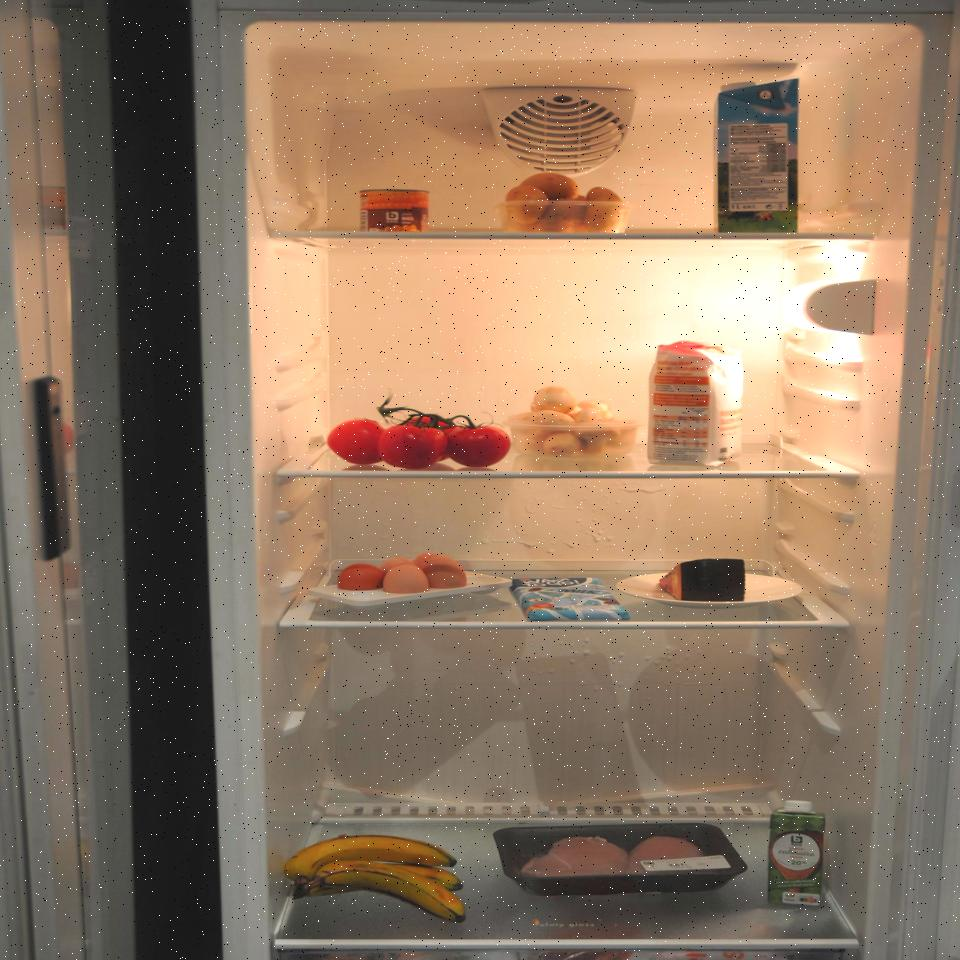Carne pollo: (491, 821, 751, 897)
Huevos: (336, 551, 474, 603)
Leche: (710, 70, 806, 239)
Plátano: (282, 830, 476, 928)
Queso: (659, 556, 747, 605)
Tomate: (324, 384, 512, 467)
